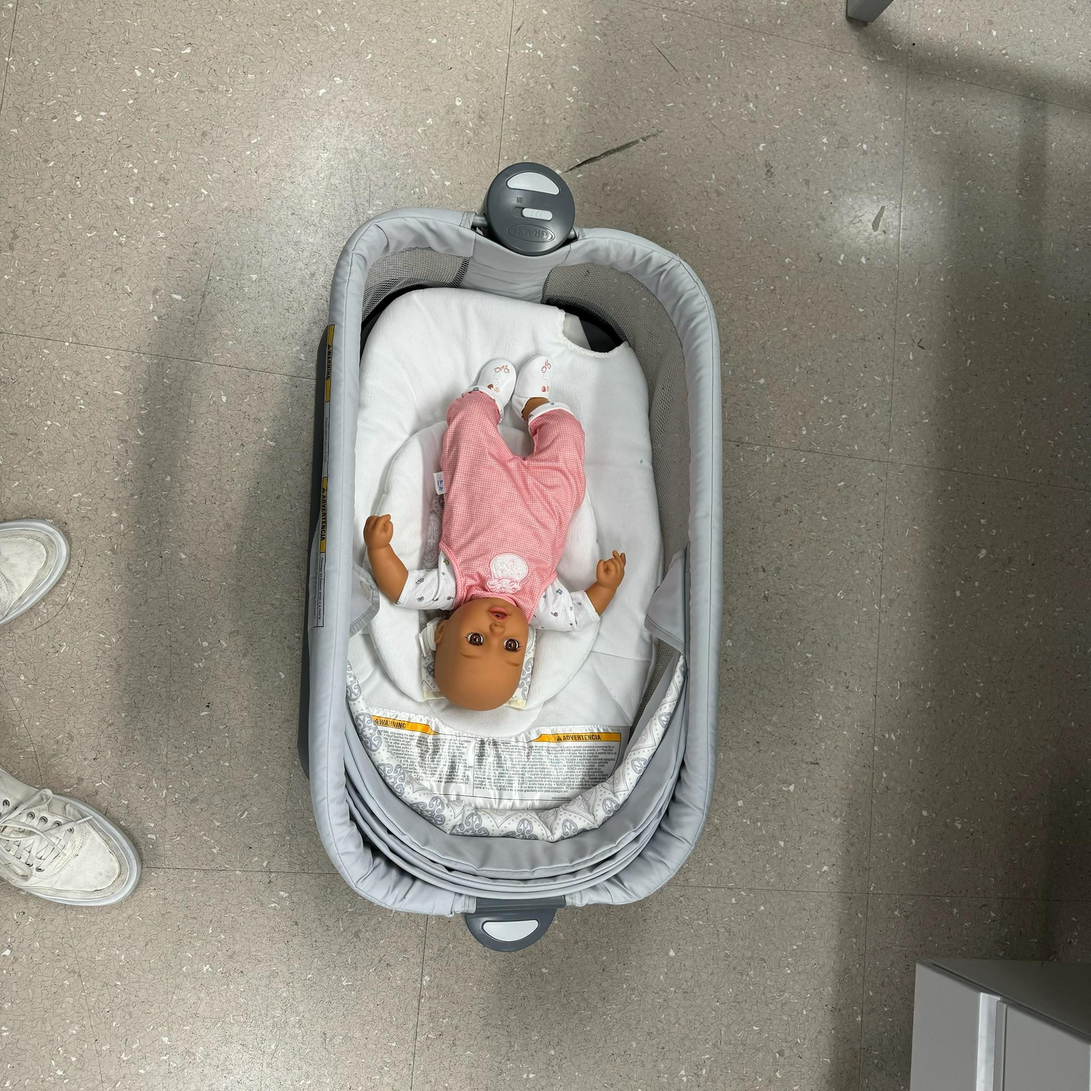baby: (362, 344, 634, 731)
